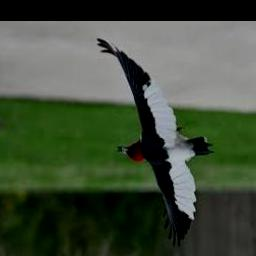Woodpecker: (98, 38, 213, 247)
